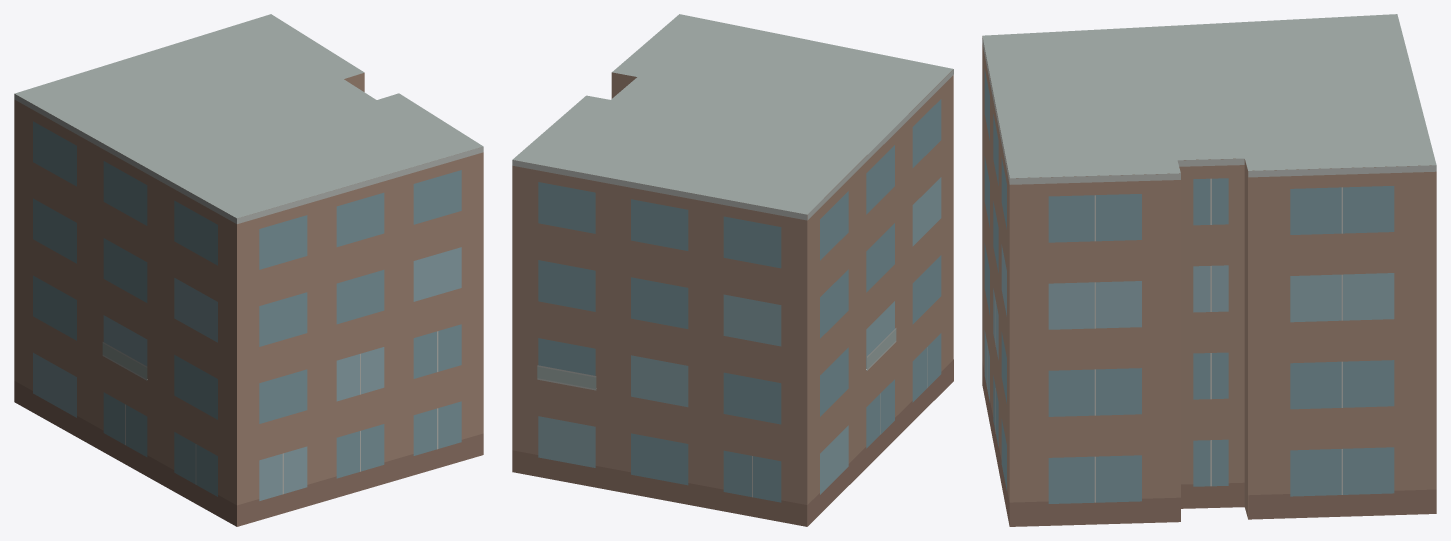
File: survey-upis-32926811.glb
3 views of the same model, side by side, from view 1: azimuth 30°, elevation 25°; view 2: azimuth 150°, elevation 25°; view 3: azimuth 270°, elevation 25° (orthographic). The views are drawn at different scales.
Visible parts, largest first — view 1: survey-upis-32926811.tmp; view 2: survey-upis-32926811.tmp; view 3: survey-upis-32926811.tmp.
Boxes of the visible parts, x1,y1,x2,y2 form: survey-upis-32926811.tmp: (14,14,483,526); survey-upis-32926811.tmp: (512,14,953,526); survey-upis-32926811.tmp: (982,14,1436,526).
Bounding box in the file's own units: 13.15 × 13 × 15.37.
